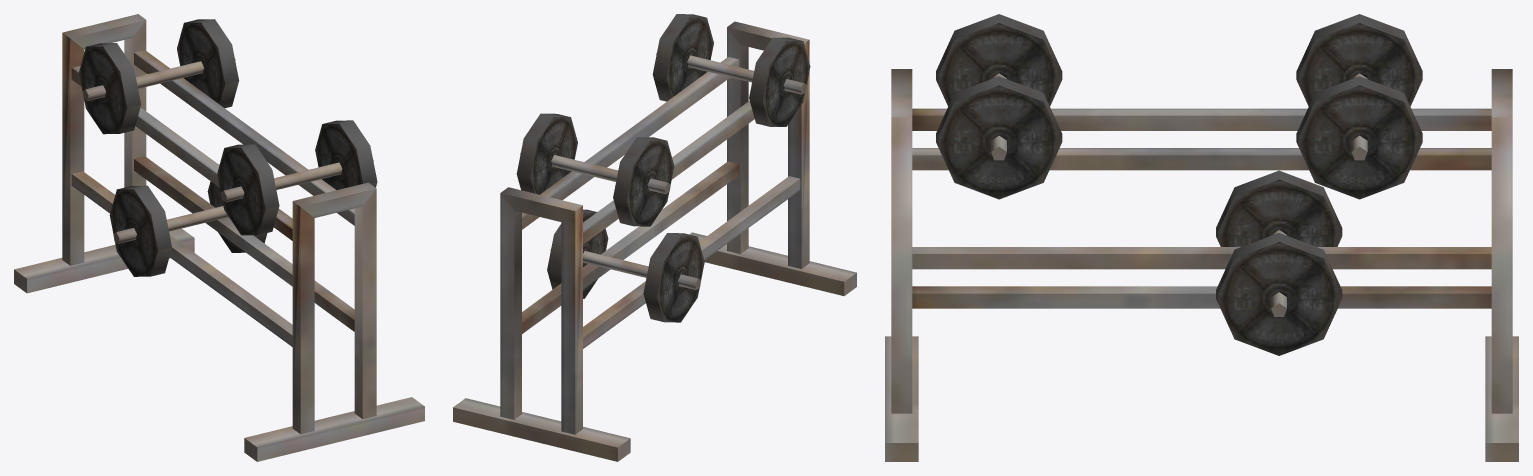
File: dumbles.glb
3 views of the same model, side by side, from view 1: azimuth 30°, elevation 25°; view 2: azimuth 150°, elevation 25°; view 3: azimuth 270°, elevation 25° (orthographic). The views are drawn at different scales.
Visible parts, largest first — view 1: dumbbell_rack004; view 2: dumbbell_rack004; view 3: dumbbell_rack004.
Boxes of the visible parts, x1,y1,x2,y2 form: dumbbell_rack004: (14,14,424,461); dumbbell_rack004: (453,14,856,461); dumbbell_rack004: (885,14,1518,461).
Size of the model in its own units: 0.6 by 0.9419 by 1.51.
1 material, 1 textured.
